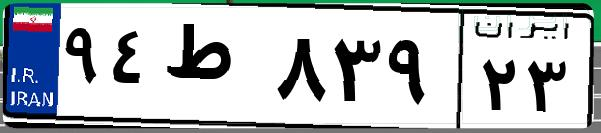2: (475, 38, 525, 113)
3: (330, 28, 385, 110), (525, 38, 570, 115)
4: (110, 28, 158, 98)
8: (270, 28, 330, 110)
9: (385, 28, 445, 110), (57, 26, 110, 100)
ط: (158, 20, 270, 120)
